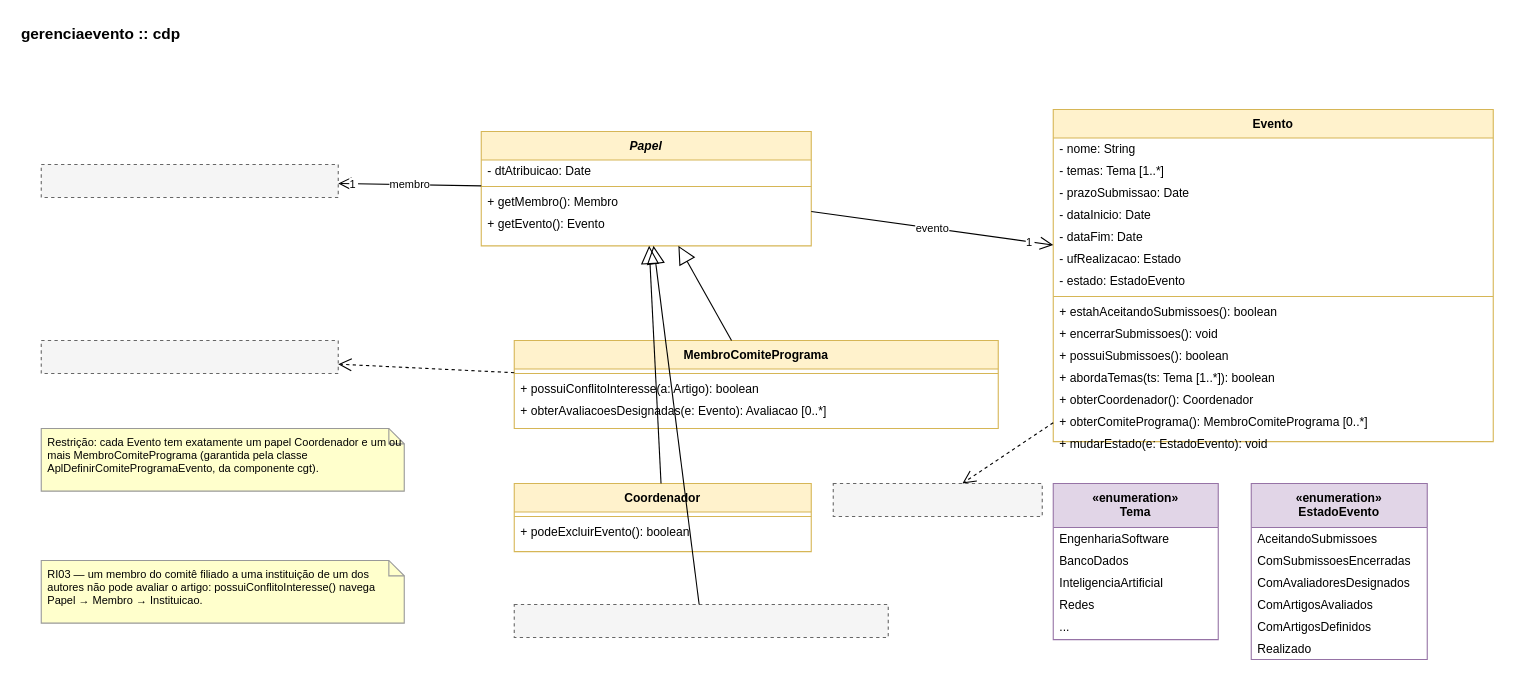
Some shapes in this 1513 by 679 pixel diagram are drawn without their labels. The centre of each missing label's shape, as x and y in pixels:
gerenciamembro::cdp::Instituicao: the point at 189,356
gerenciamembro::cdp::Membro: the point at 189,180
submissaoavaliacaoartigo::cdp::Autor: the point at 700,620
utilitarioPessoa::Estado: the point at 937,499
